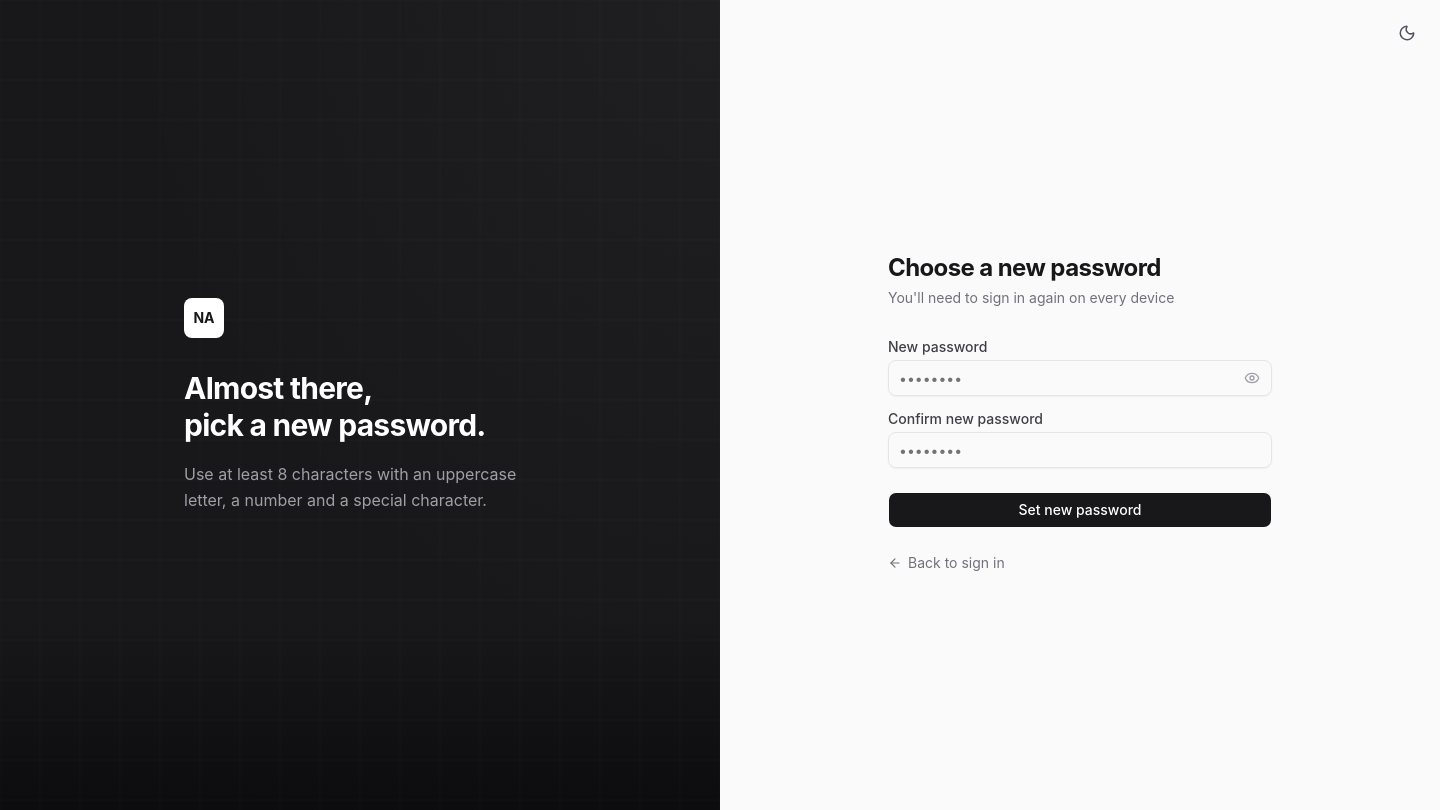
Scenario: ResetPasswordForm › explains a rejected token and links to a new request
Type "Secret123!" into the password field labelled "New password" at (1080, 378), box [888,360,1272,396]
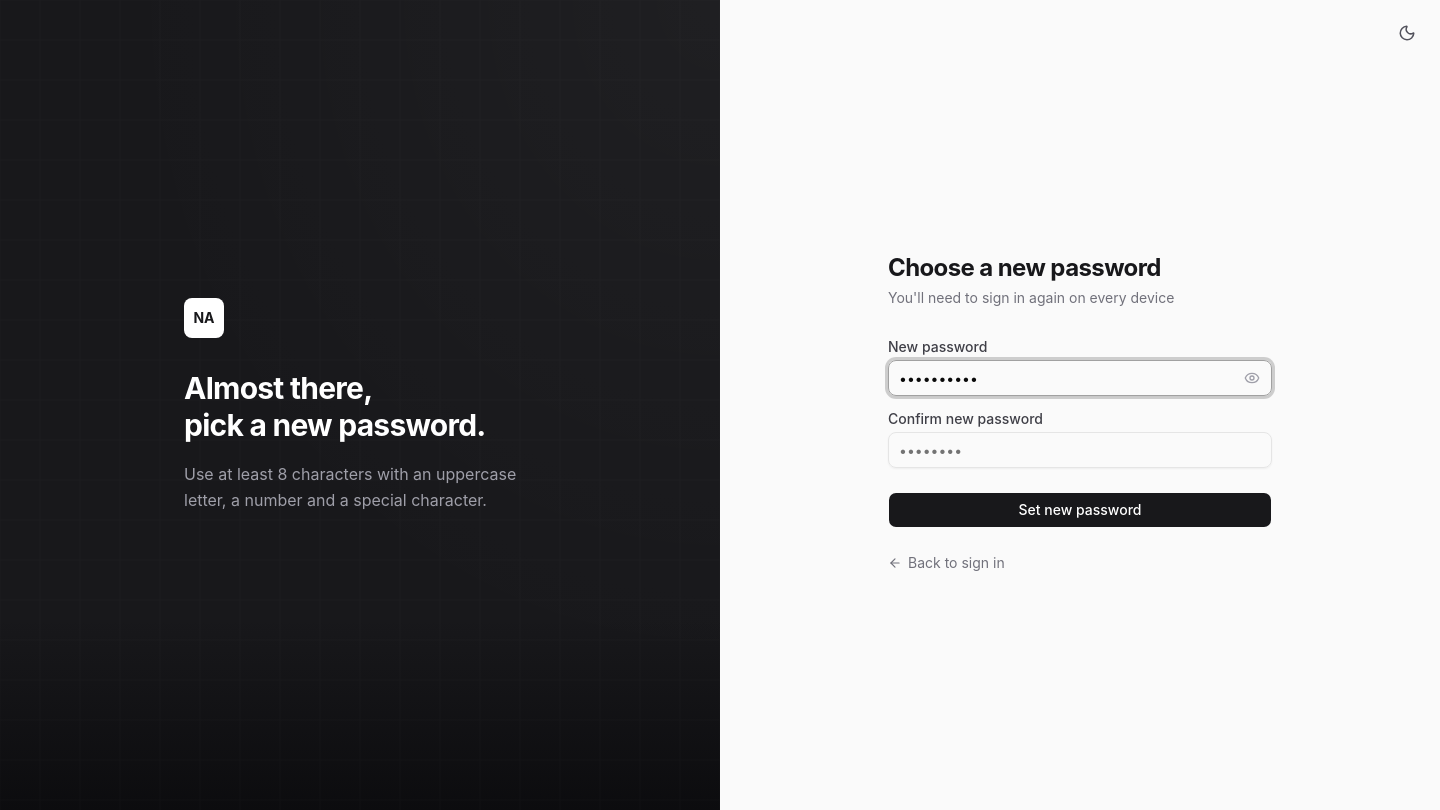
Type "Secret123!" into the password field labelled "Confirm new password" at (1080, 450), box [888,432,1272,468]
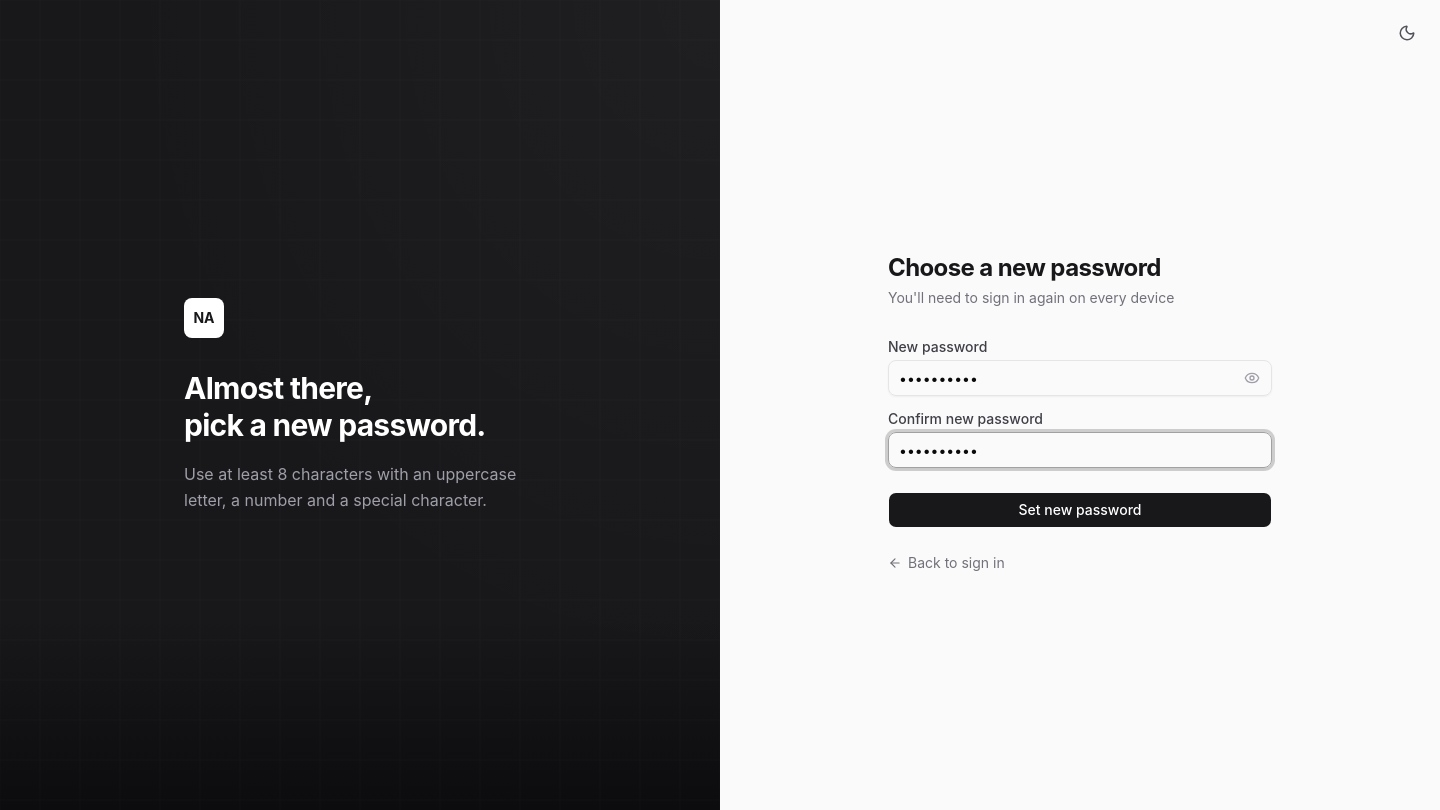
Click the button "Set new password" at (1080, 510), box [888,492,1272,528]
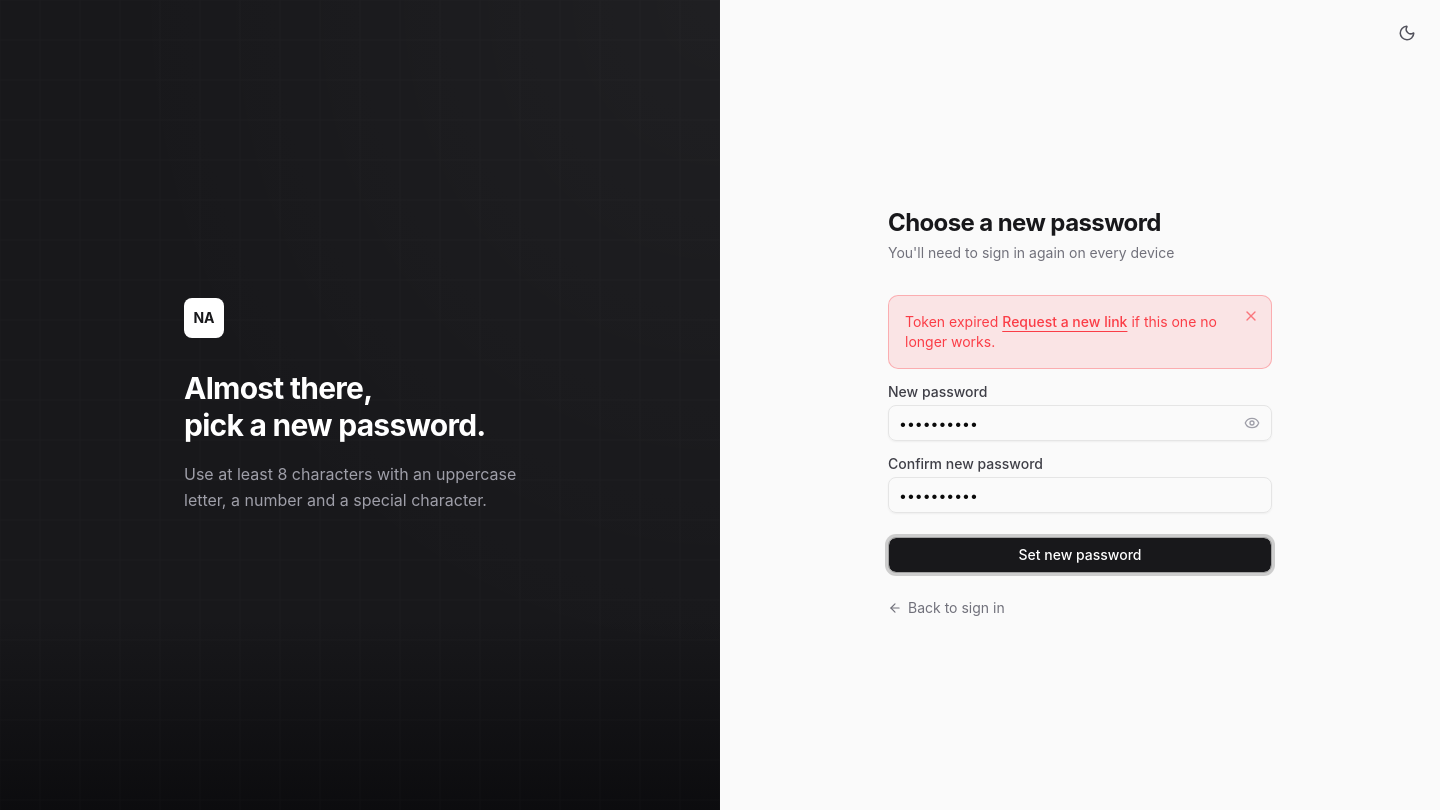
Expected: the button "Set new password" is enabled, [888,537,1272,573]
Now the text "Token expired" is shown, box [905,313,998,330]
